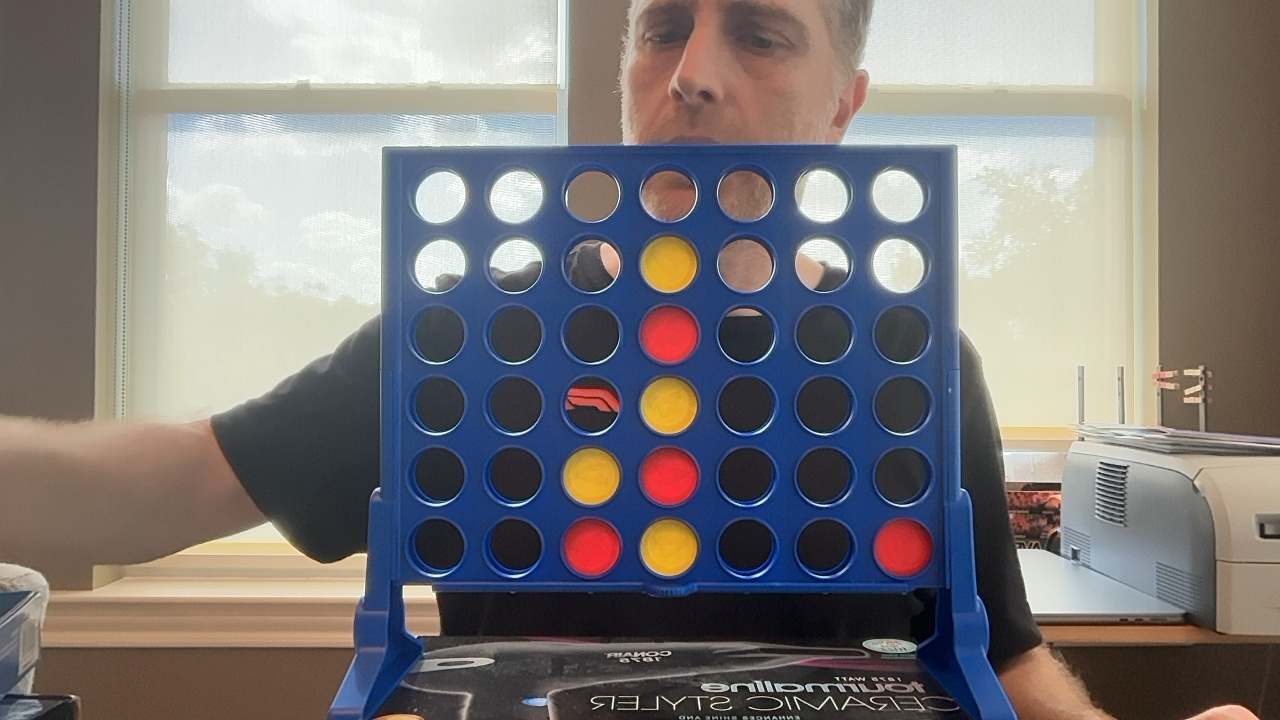red piece: (874, 518, 933, 577), (640, 447, 698, 506), (563, 518, 621, 577), (640, 305, 698, 363)
yellow piece: (640, 519, 698, 577), (562, 448, 620, 506), (640, 376, 697, 434), (640, 235, 697, 292)
